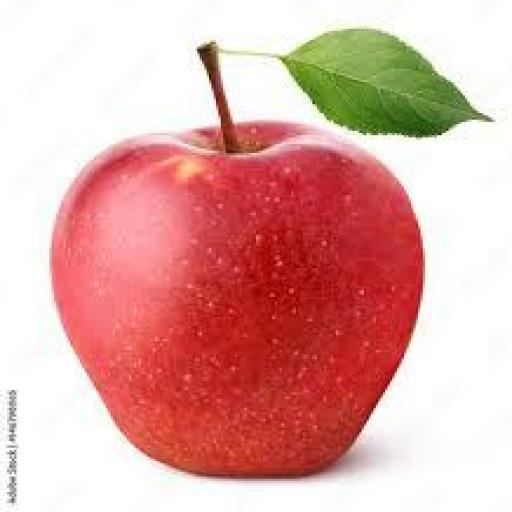apple: (52, 122, 422, 476)
